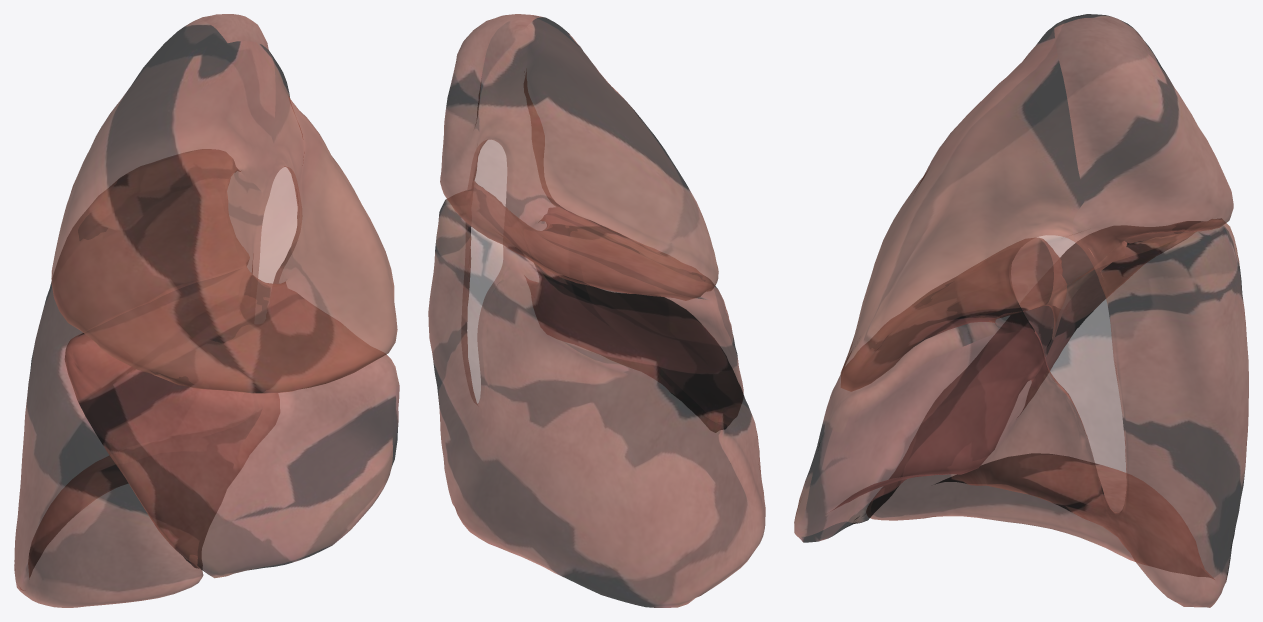
Rendered from Respiratory.Lungs.Superior_Left.001.obj.
The picture shows the model from 3 angles, left to right: view 1: azimuth 30°, elevation 25°; view 2: azimuth 150°, elevation 25°; view 3: azimuth 270°, elevation 25°; orthographic projection. The views are drawn at different scales.
Parts seen in each view (by area): view 1: Respiratory:Lungs:Superior_Left.001_Lungs.000; view 2: Respiratory:Lungs:Superior_Left.001_Lungs.000; view 3: Respiratory:Lungs:Superior_Left.001_Lungs.000.
Boxes of the visible parts, bbox=[...] form: Respiratory:Lungs:Superior_Left.001_Lungs.000: bbox=[14, 14, 399, 607]; Respiratory:Lungs:Superior_Left.001_Lungs.000: bbox=[428, 14, 765, 607]; Respiratory:Lungs:Superior_Left.001_Lungs.000: bbox=[794, 14, 1248, 607].
Size of the model in its own units: 0.6761 by 1.2 by 0.7661.
